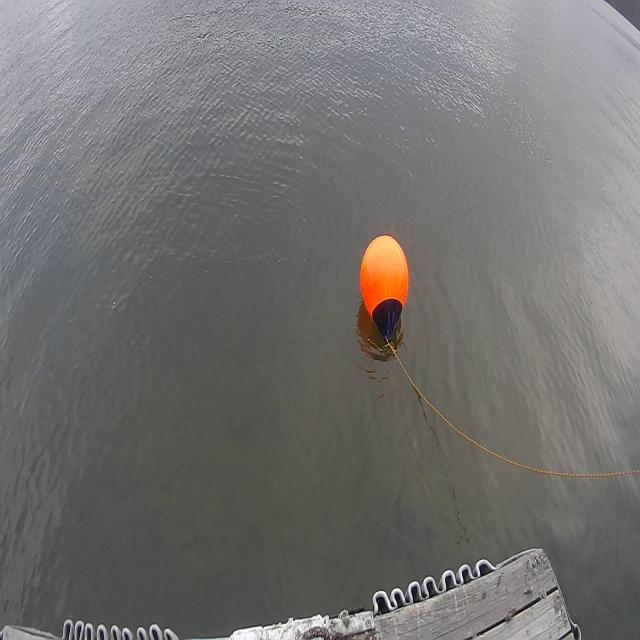Buoy: (356, 231, 410, 354)
